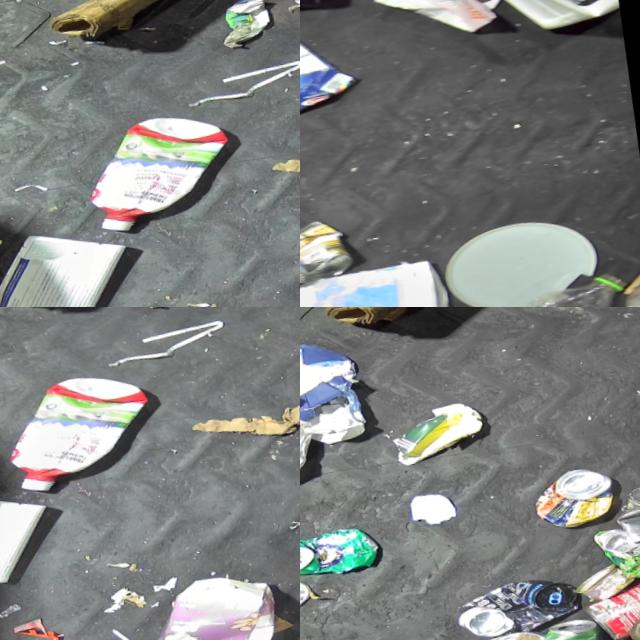can: (454, 560, 588, 640), (530, 454, 624, 530), (300, 515, 387, 585), (582, 551, 640, 640), (300, 206, 363, 287), (575, 549, 640, 601), (593, 511, 640, 579), (541, 604, 617, 640), (611, 458, 640, 545), (461, 619, 557, 640), (300, 573, 318, 613)
non_white_jug: (75, 95, 247, 241), (454, 0, 626, 42)
plastic_bottle: (442, 249, 640, 307)
